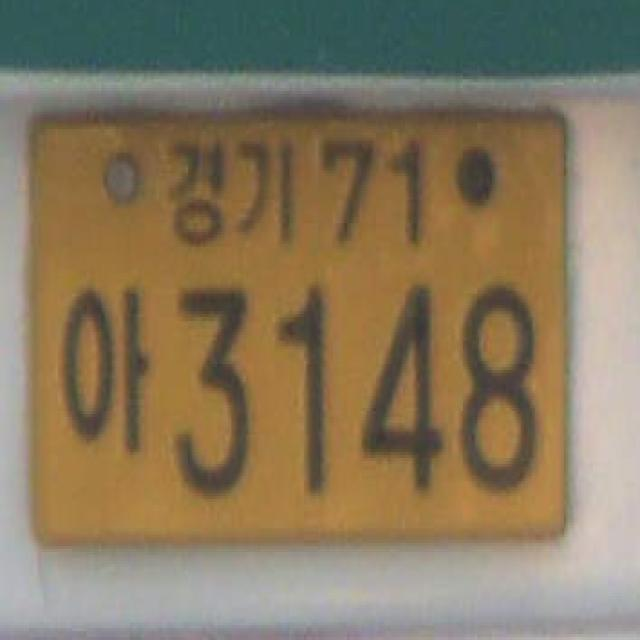plat: (26, 103, 569, 546)
